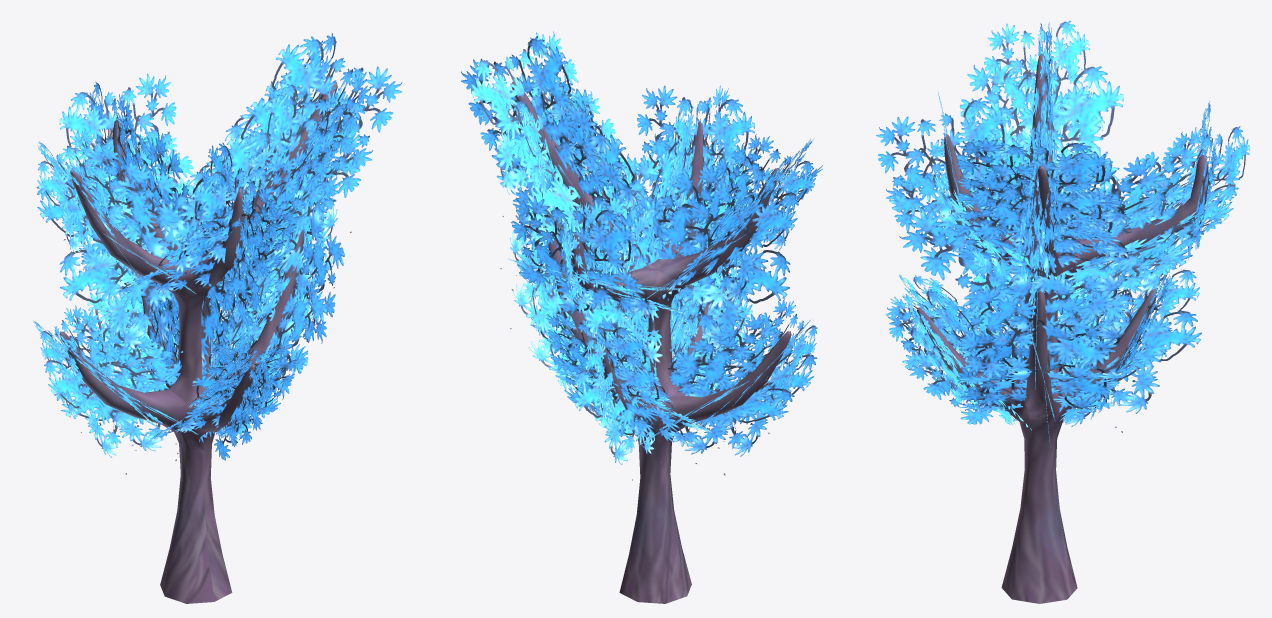
Rendered from Arvore3.fbx.
3 renders of one model, left to right at view 1: azimuth 30°, elevation 25°; view 2: azimuth 150°, elevation 25°; view 3: azimuth 270°, elevation 25°, orthographic. The views are drawn at different scales.
Parts seen in each view (by area): view 1: LOD_0; view 2: LOD_0; view 3: LOD_0.
Boxes of the visible parts, x1=… form: LOD_0: x1=33, y1=33, x2=402, y2=603; LOD_0: x1=461, y1=31, x2=822, y2=603; LOD_0: x1=876, y1=20, x2=1249, y2=603.
Size of what is drawn, in the model's own units: 818 by 1093 by 679.
